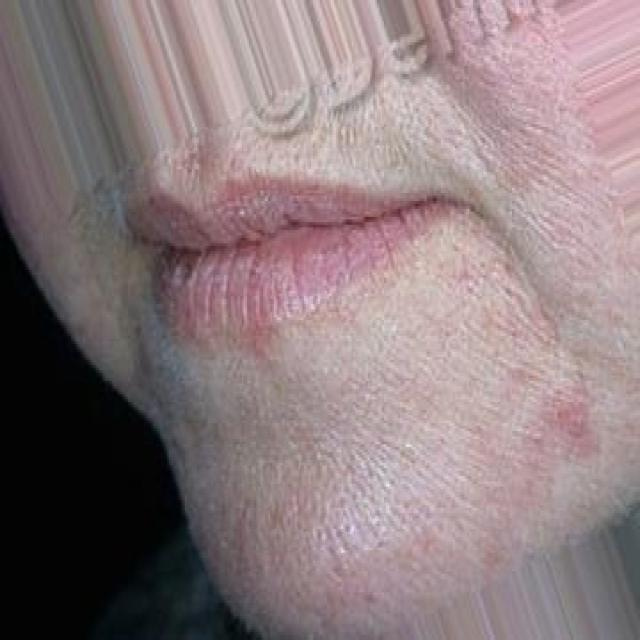Rosacea: (212, 506, 452, 606), (432, 22, 586, 168), (525, 393, 598, 460)
